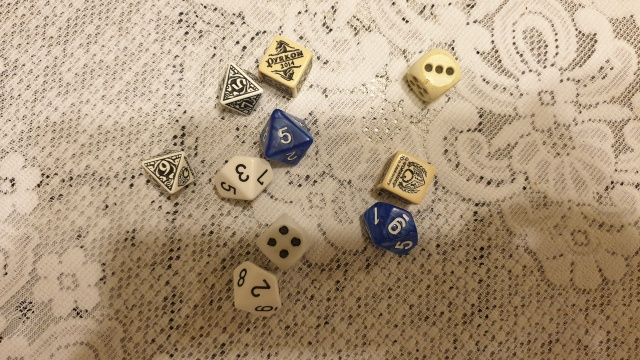d10-2: (225, 260, 285, 322)
d10-3: (209, 150, 272, 208)
d10-5: (253, 106, 323, 172)
d10-9: (359, 201, 429, 267)
d6-3: (400, 44, 467, 104)
d6-4: (253, 211, 315, 271)
d6p-1: (257, 36, 316, 99)
d6p-6: (370, 147, 432, 206)
d8p-5: (213, 62, 264, 120)
d8p-6: (139, 143, 199, 200)
